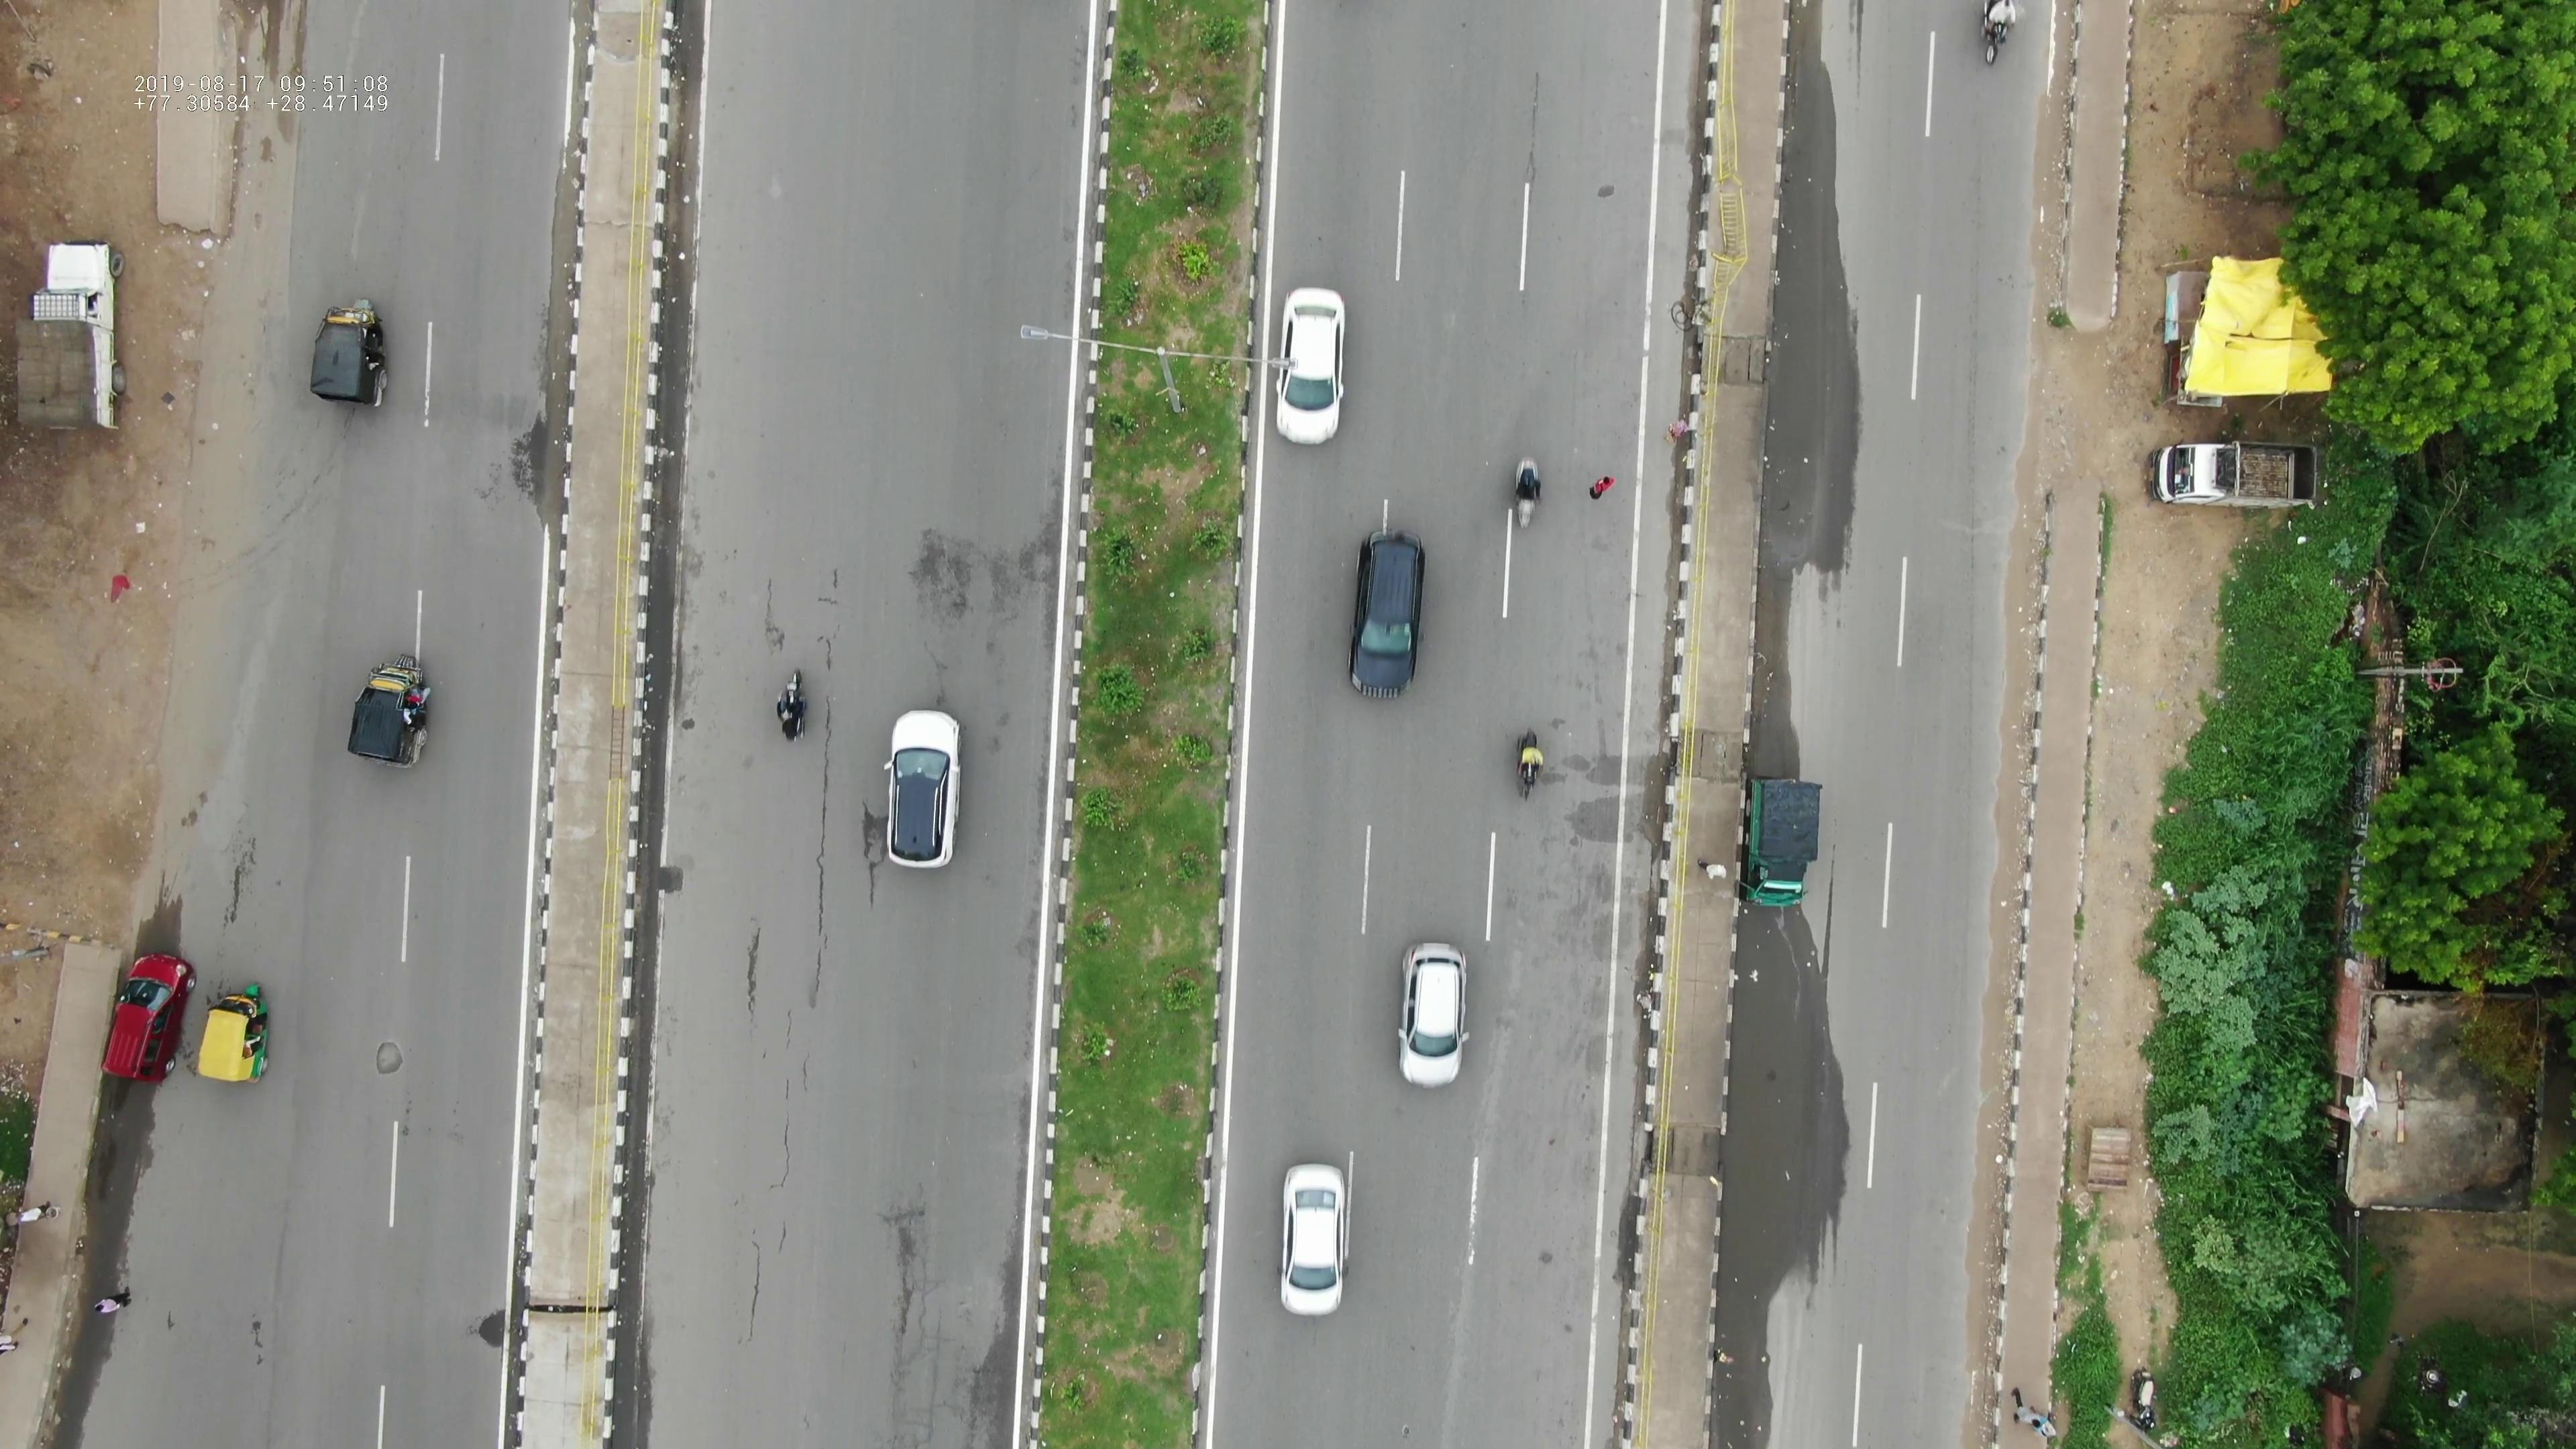Hair_cracks: (855, 1108, 982, 1426)
Ravelling: (701, 881, 805, 1352), (801, 529, 881, 1016), (203, 830, 274, 948)
